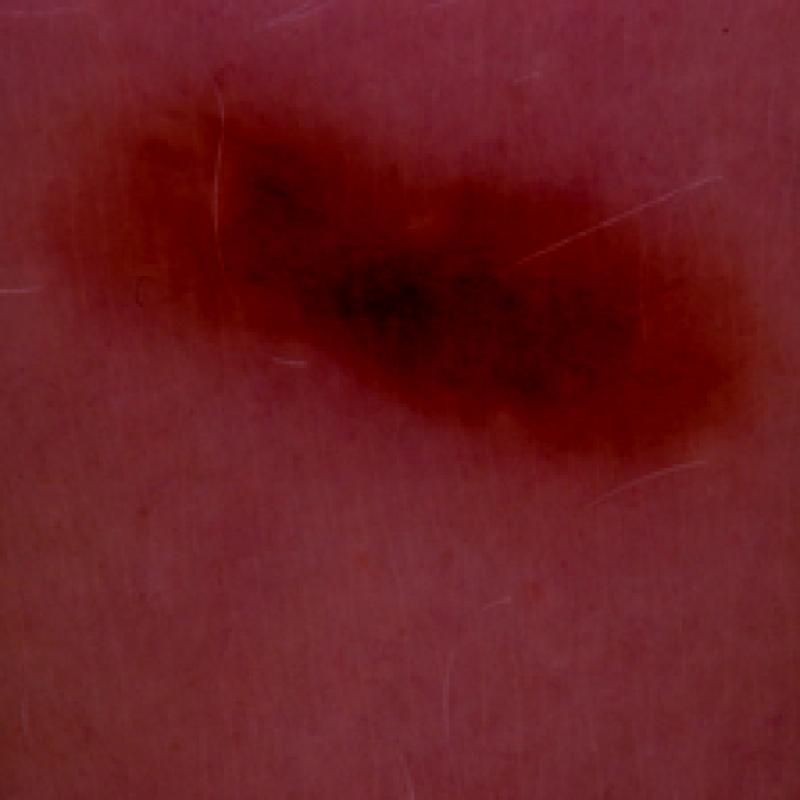benign: (84, 78, 751, 462)
